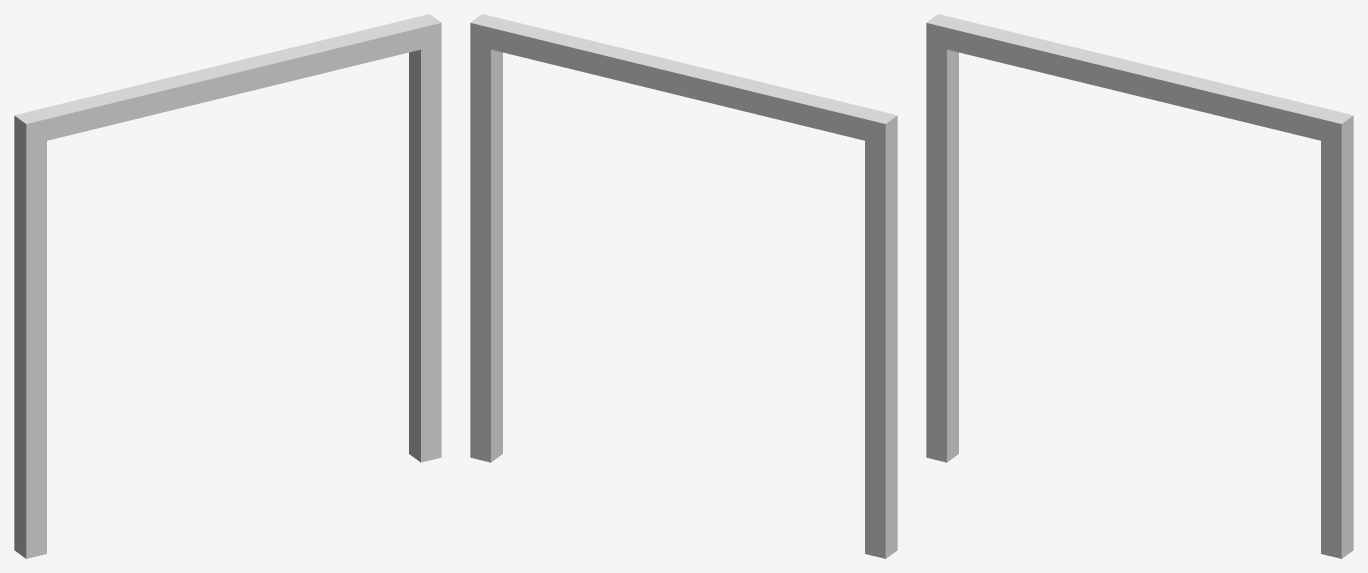
Rendered from PlainGarageFrame.glb.
3 views of the same model, side by side, from view 1: azimuth 30°, elevation 25°; view 2: azimuth 150°, elevation 25°; view 3: azimuth 330°, elevation 25° (orthographic).
Parts seen in each view (by area): view 1: PlainGarageFrame; view 2: PlainGarageFrame; view 3: PlainGarageFrame.
Part boxes in pixels (x1=…): PlainGarageFrame: x1=14, y1=14, x2=441, y2=558; PlainGarageFrame: x1=470, y1=14, x2=897, y2=558; PlainGarageFrame: x1=926, y1=14, x2=1353, y2=558.
Bounding box in the file's own units: 2 × 2 × 0.1.
Materials: 1 (1 with a texture image).
